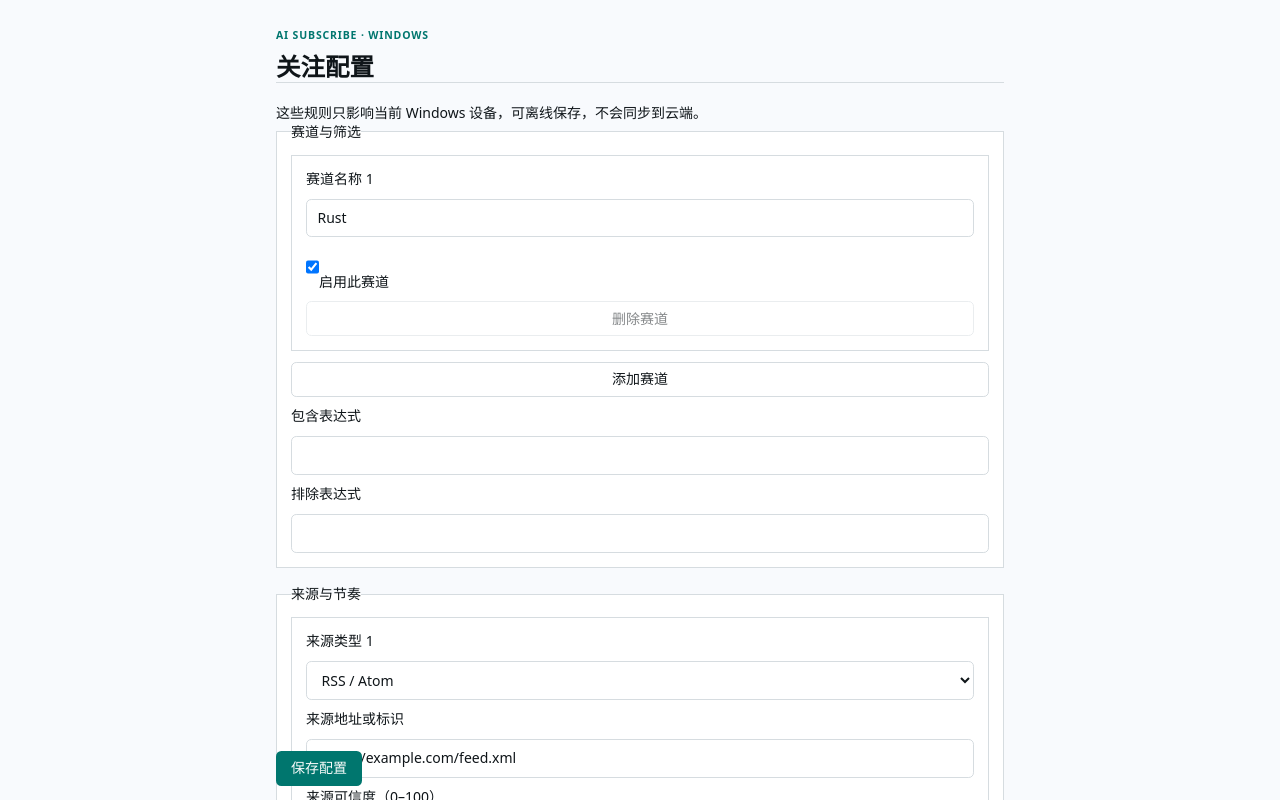
it: configuration editor › closes the risk dialog with Escape and restores focus to save
Click the button "保存配置" at (319, 768), box top-left (276, 751), bottom-right (362, 786)
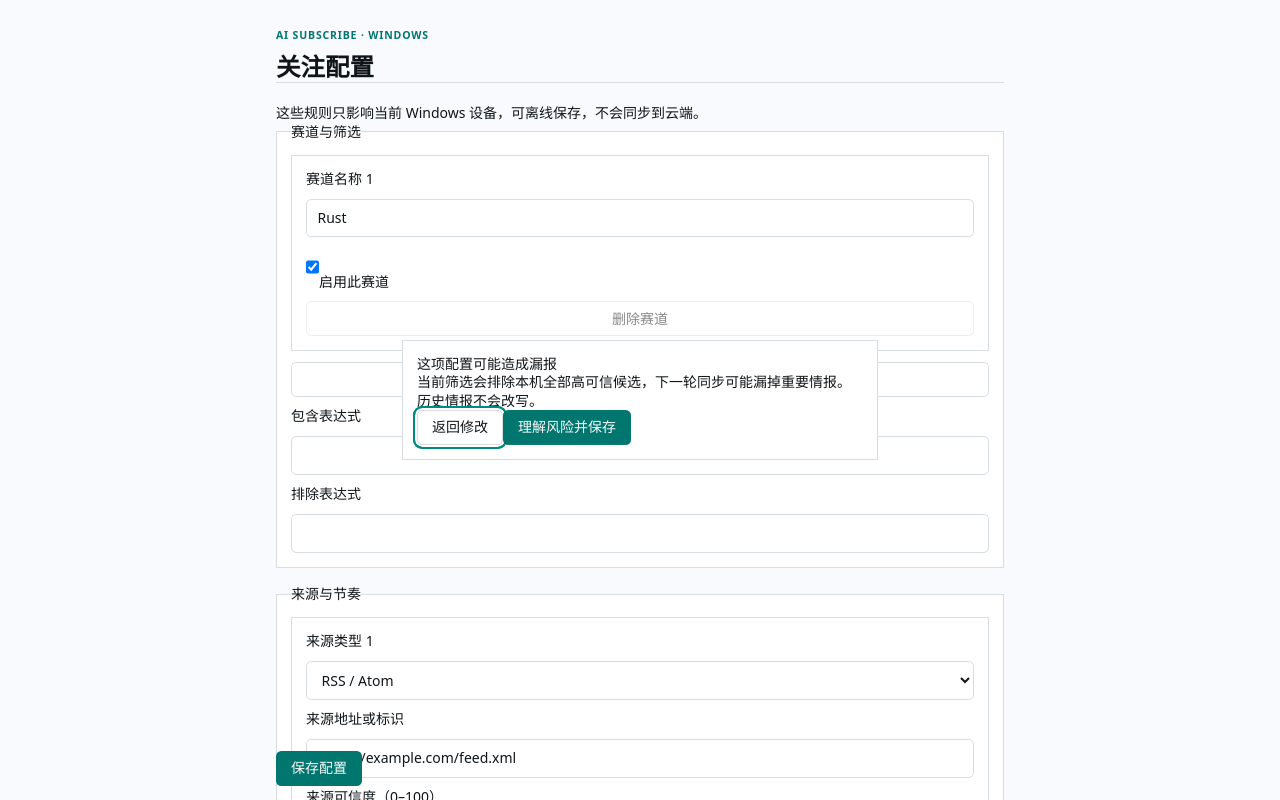
Press Escape
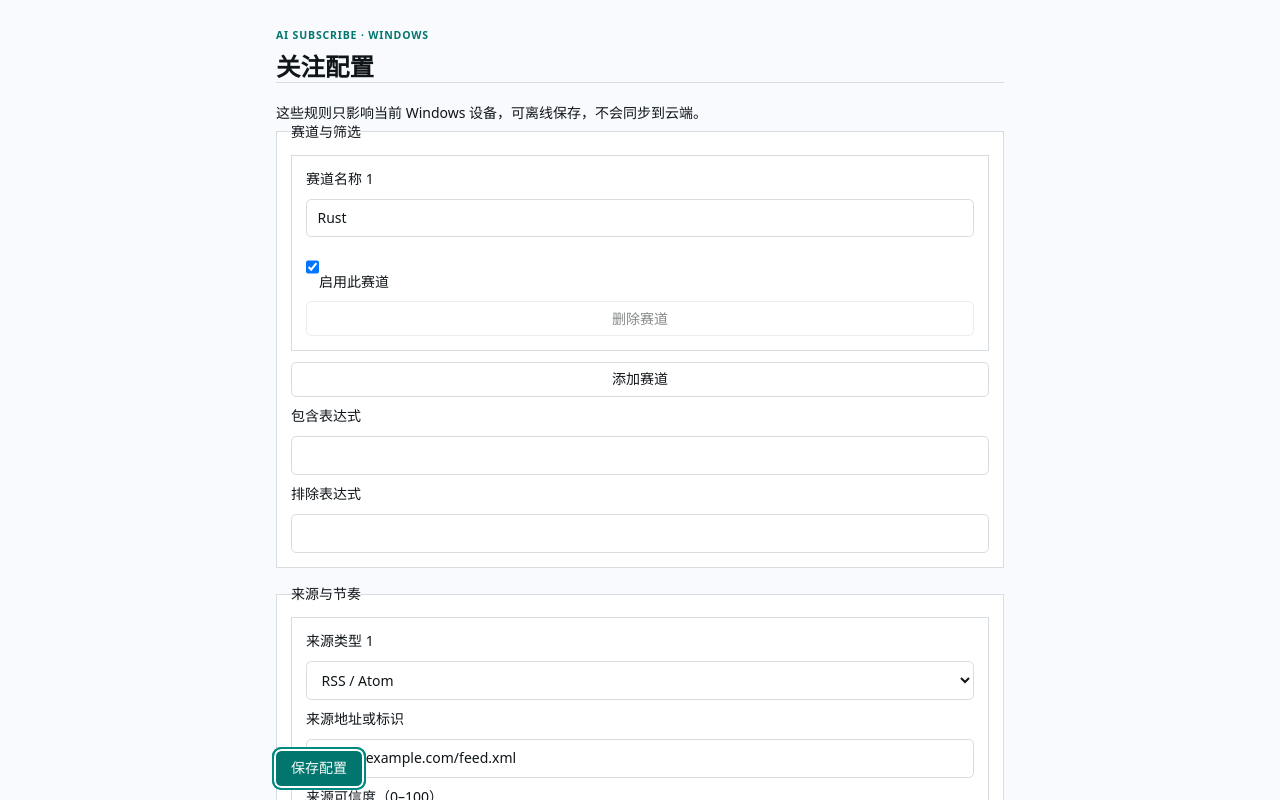
Expected: the dialog is gone
